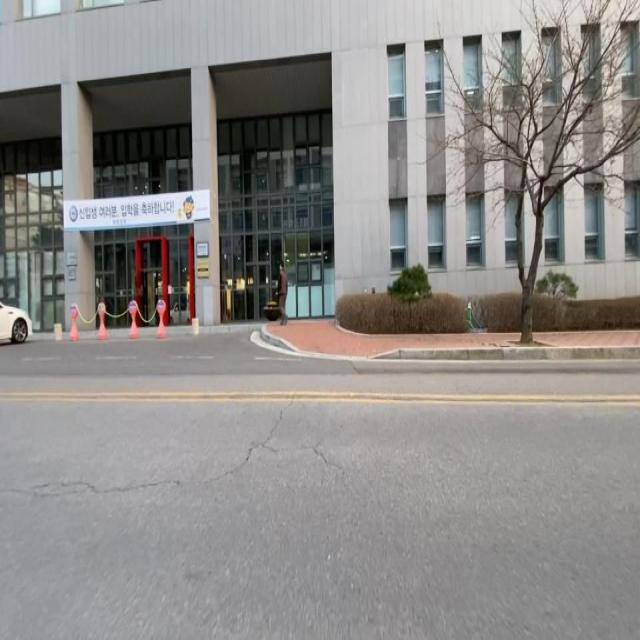sidewalk: (266, 318, 522, 358), (533, 329, 640, 346)
